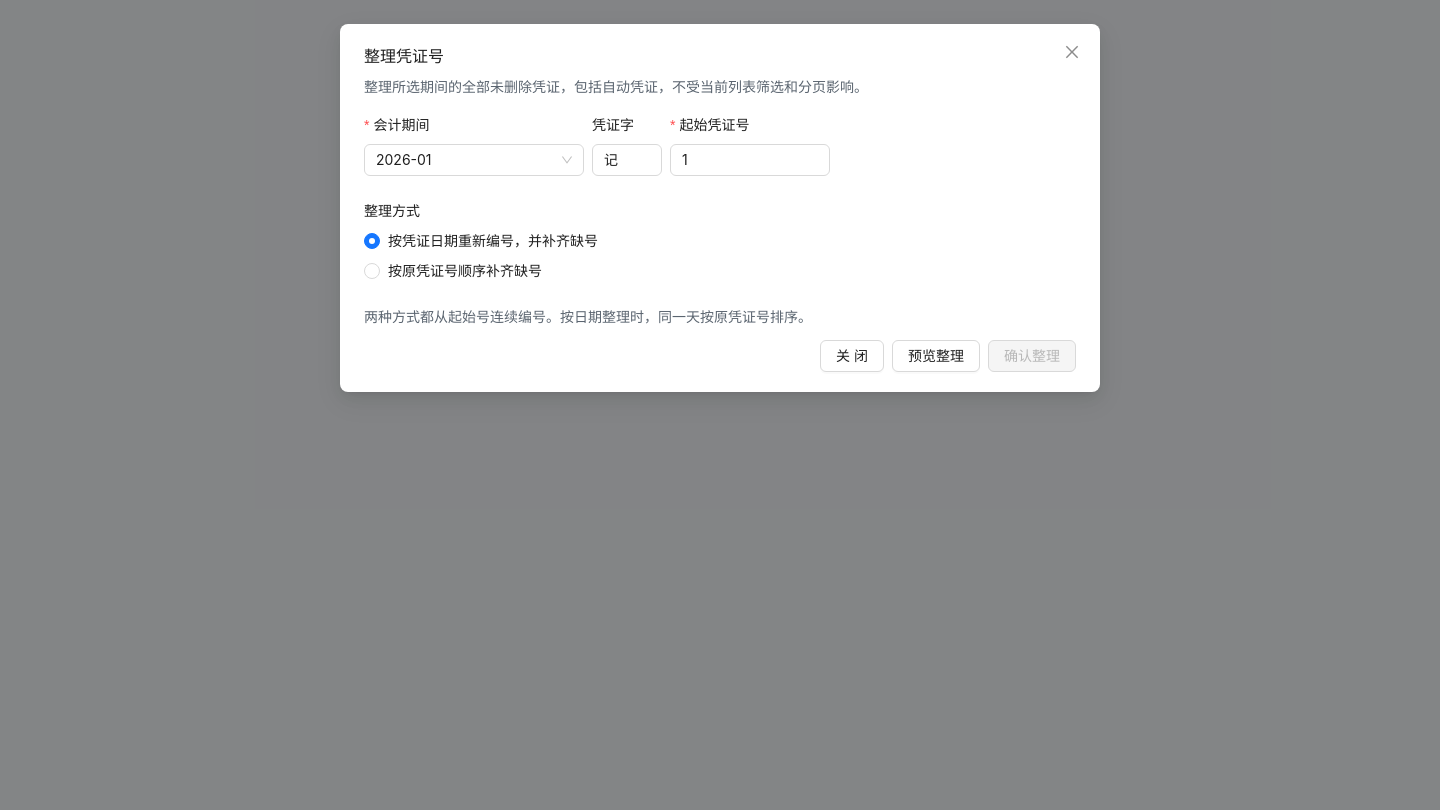
Test: 整理凭证号 › discards a stale preview and requires a new preview
Click the button "预览整理" at (936, 356), box [892,340,980,372]
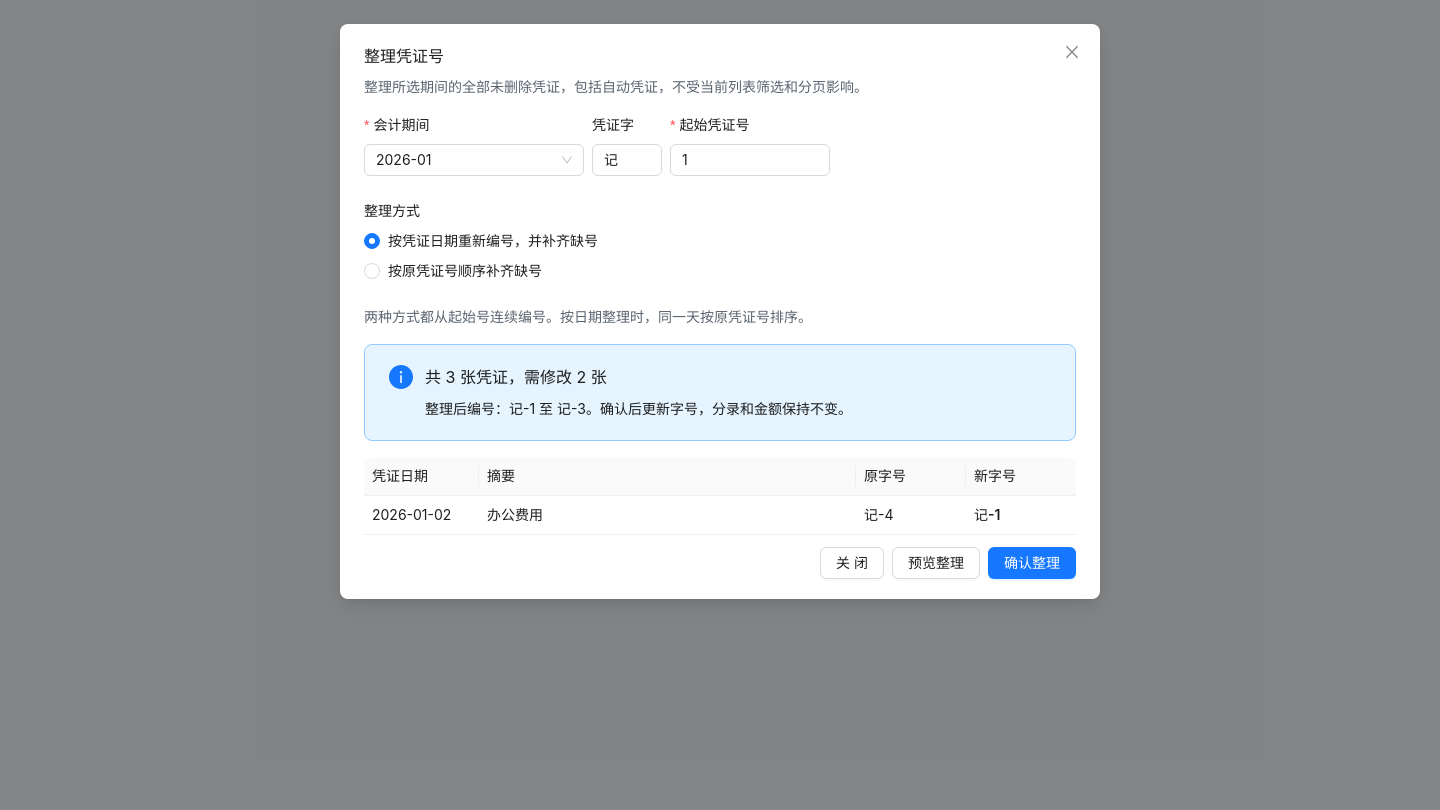
expect the text "办公费用" is shown: met, box [479,496,856,535]
Click the button "确认整理" at (1032, 563), box [988,547,1076,579]
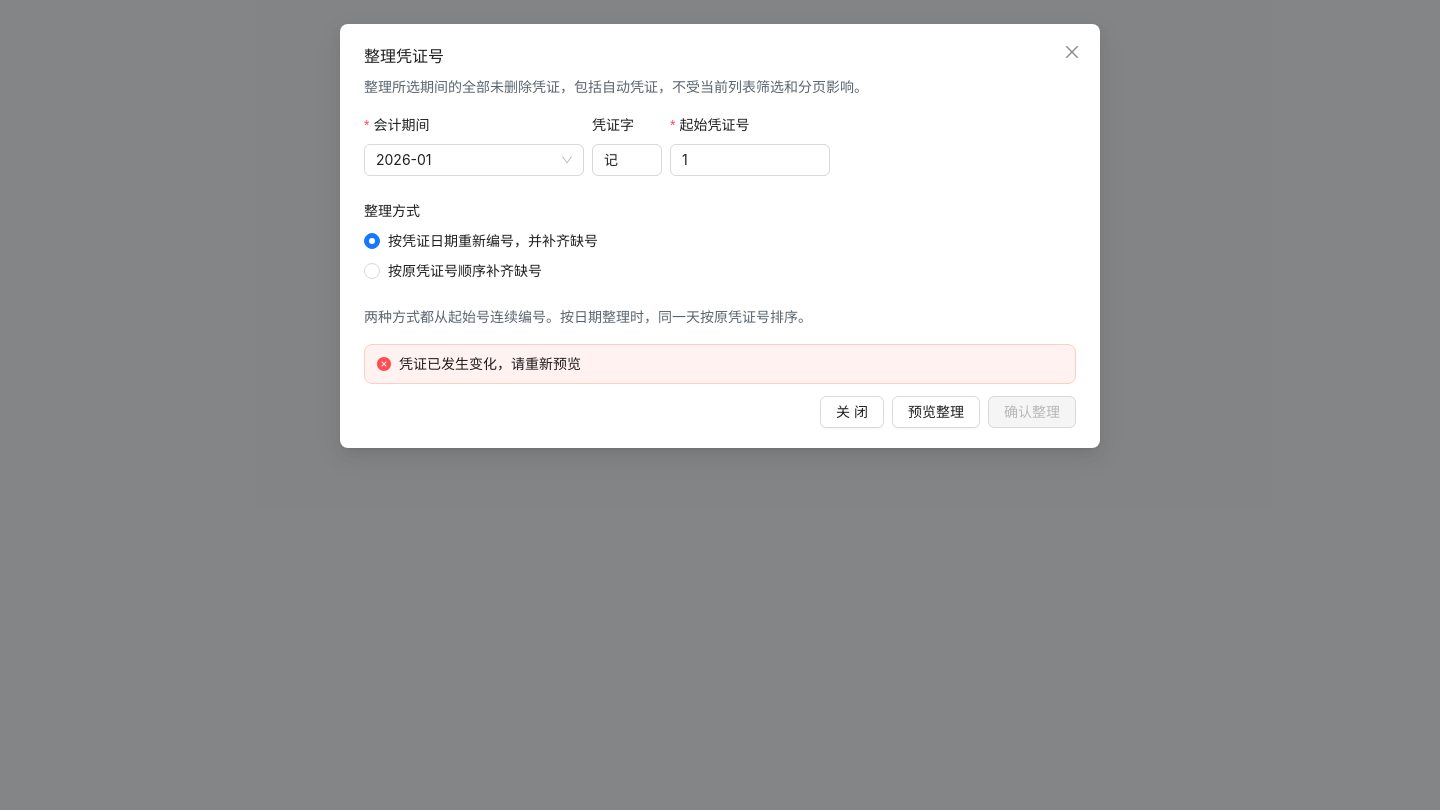
expect the text "凭证已发生变化，请重新预览" is shown: met, box [399,355,581,372]
expect the button "确认整理" is disabled: met, box [988,396,1076,428]
